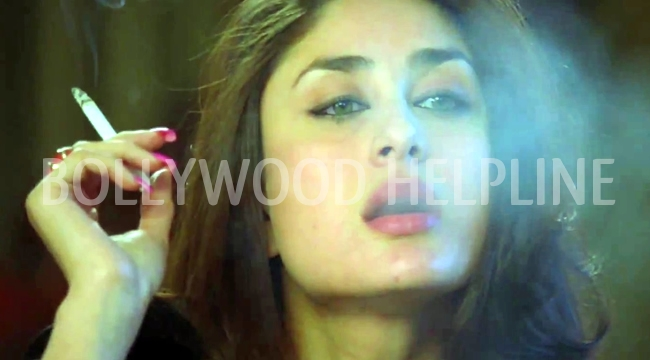cigarette: (69, 89, 124, 156)
